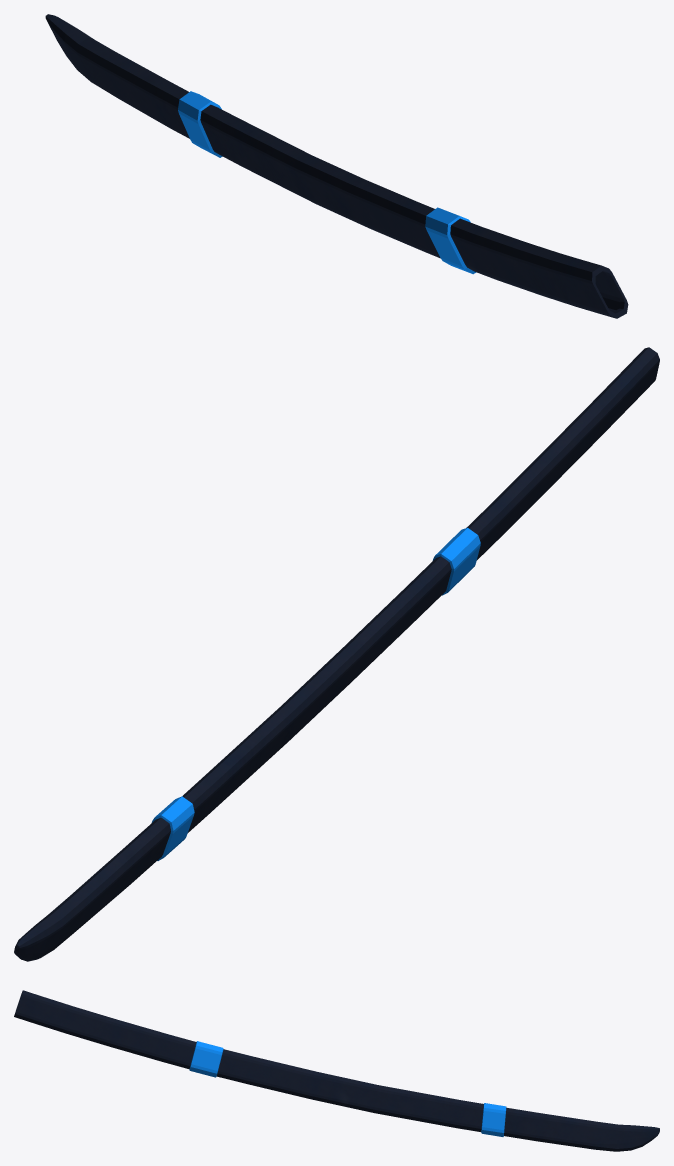
Rendered from KatanaCase.fbx.
The picture shows the model from 3 angles, top to bottom: view 1: azimuth 30°, elevation 25°; view 2: azimuth 150°, elevation 25°; view 3: azimuth 270°, elevation 25°; orthographic projection. The views are drawn at different scales.
Parts seen in each view (by area): view 1: KatanaCase; view 2: KatanaCase; view 3: KatanaCase.
Part boxes in pixels (x1=…): KatanaCase: x1=45, y1=14, x2=628, y2=318; KatanaCase: x1=14, y1=347, x2=659, y2=961; KatanaCase: x1=14, y1=990, x2=659, y2=1151.
Size of the model in its own units: 10.19 by 23.98 by 101.
